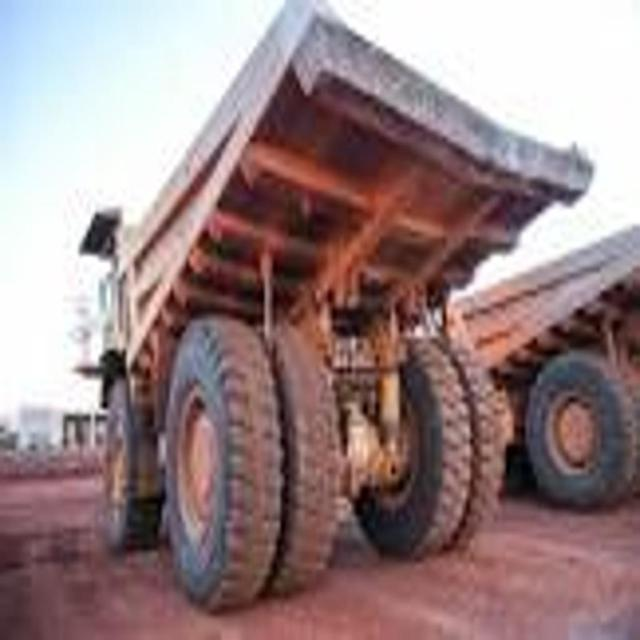dump_truck: (80, 0, 595, 595)
